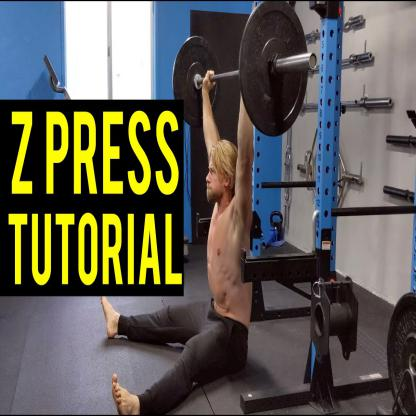Barbell: (236, 0, 312, 140)
